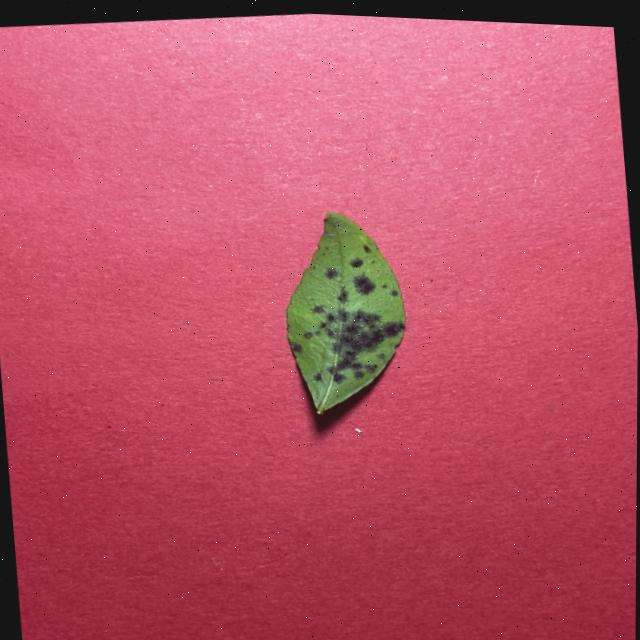sooty_mold: (286, 213, 405, 413)
